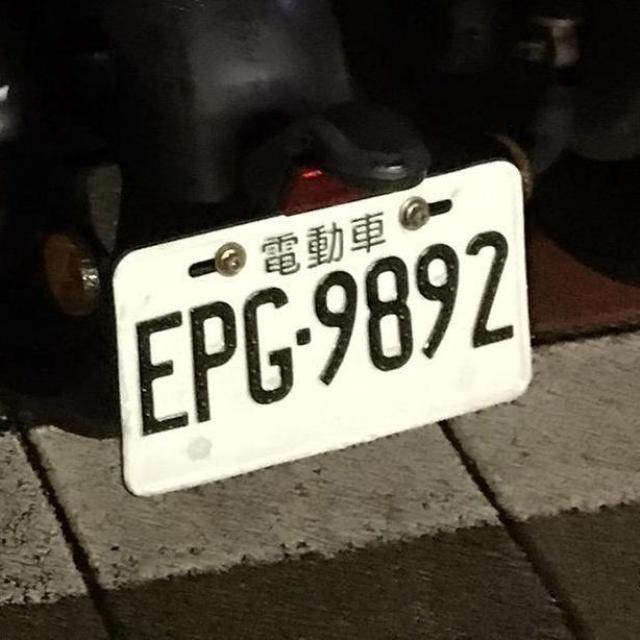W: (111, 160, 536, 498)
